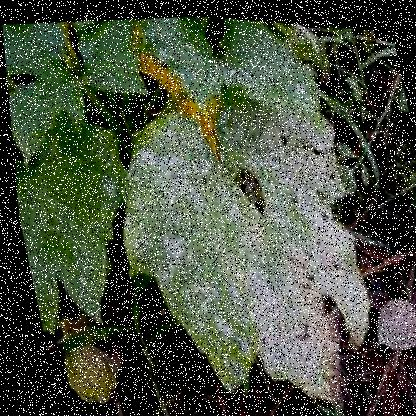PowderyMildew: (131, 102, 321, 368)
